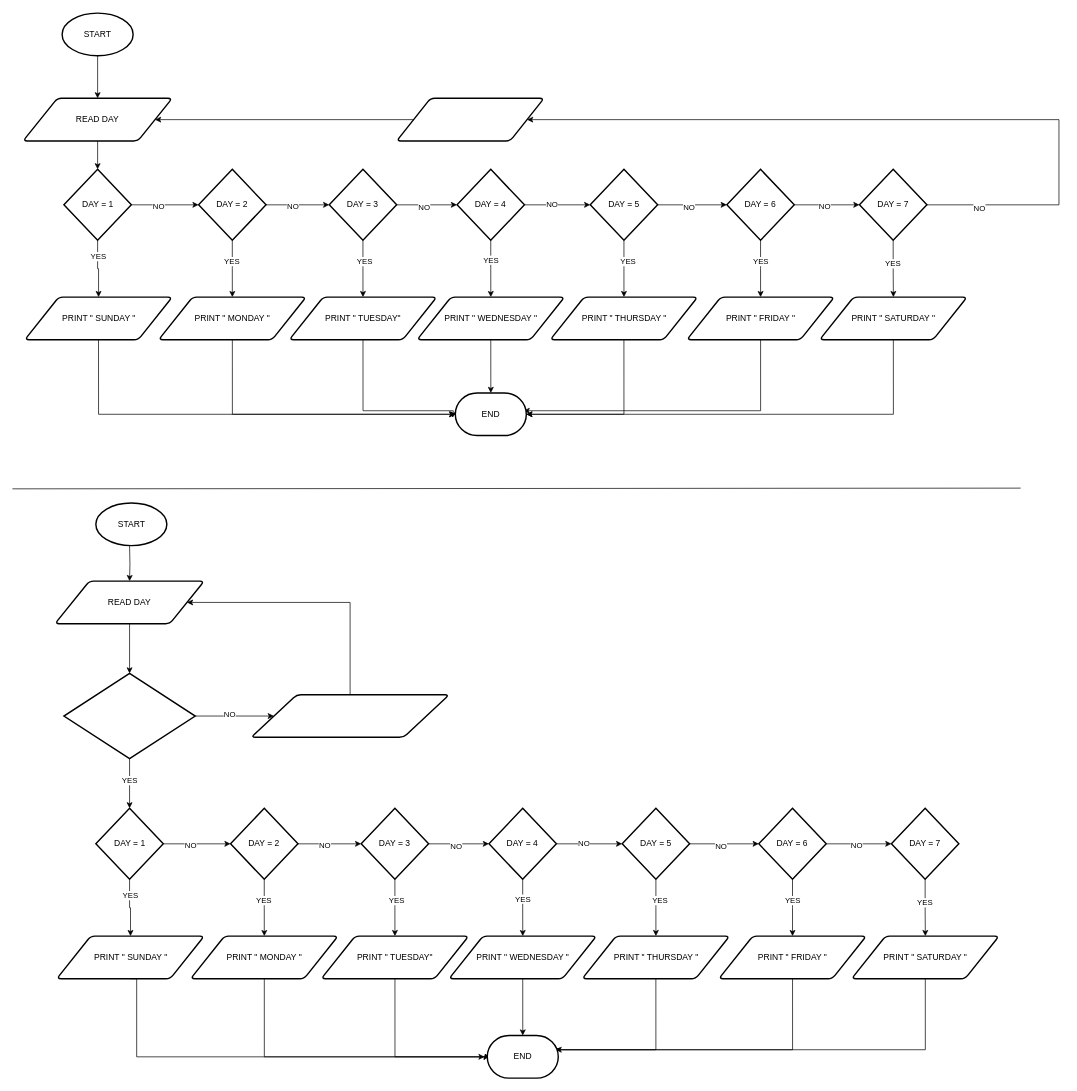
Image size: 1077x1091. Some labels were removed from this diagram. The centre of each missing label's shape, as x and y in pixels:
DAY >= 1 AND DAY<= 7: (129,715)
PRINT " WRONG DAY ": (470,119)
PRINT "WRONG DAY": (349,716)
